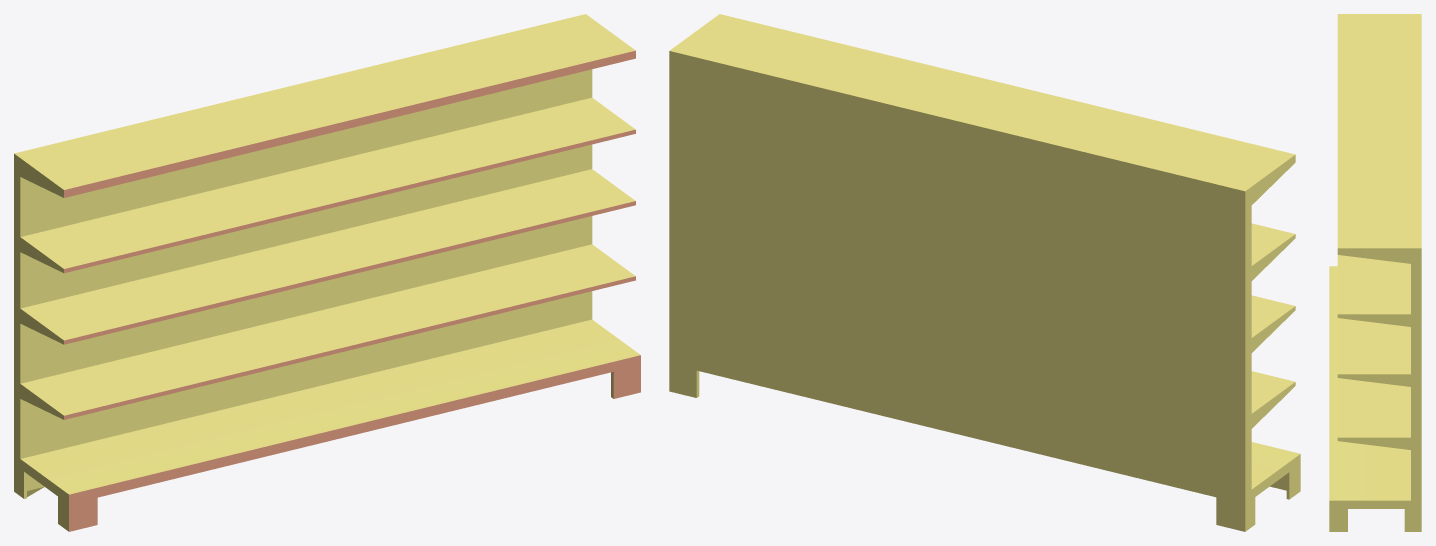
The model's file is GondolaSuper2.fbx.
3 renders of one model, left to right at view 1: azimuth 30°, elevation 25°; view 2: azimuth 150°, elevation 25°; view 3: azimuth 270°, elevation 25°, orthographic. The views are drawn at different scales.
Parts seen in each view (by area): view 1: Cube; view 2: Cube; view 3: Cube.
Part boxes in pixels (bbox=[...]): Cube: bbox=[14, 14, 640, 531]; Cube: bbox=[669, 14, 1300, 531]; Cube: bbox=[1329, 14, 1421, 531].
Size of the model in its own units: 3000 by 1696 by 500.
Materials: 1 (1 with a texture image).
